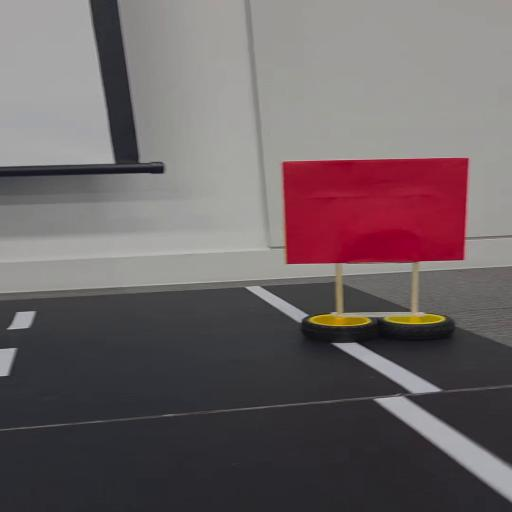Sign_A: (275, 155, 477, 345)
